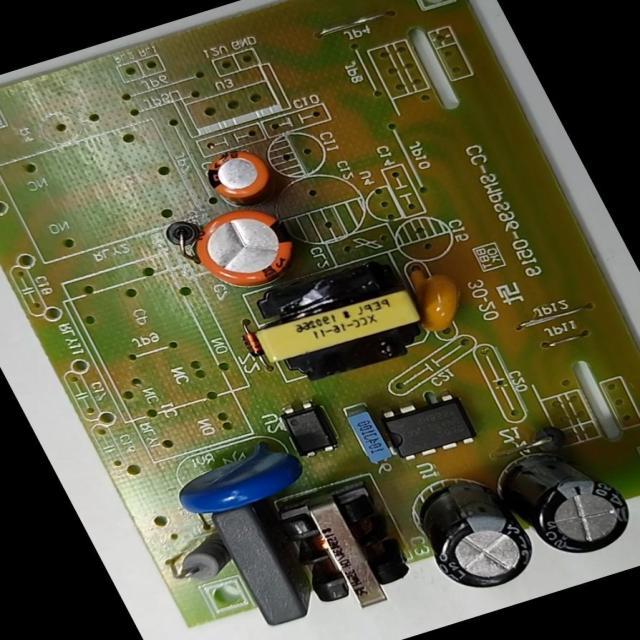Cap1: (174, 192, 322, 304)
Cap2: (186, 136, 290, 216)
Cap3: (386, 452, 560, 603)
Cap4: (472, 425, 640, 577)
MOSFET: (365, 382, 487, 471)
Mov: (154, 426, 316, 528)
Resistor: (157, 529, 250, 595)
Transformer: (232, 245, 450, 395), (263, 473, 431, 624)
